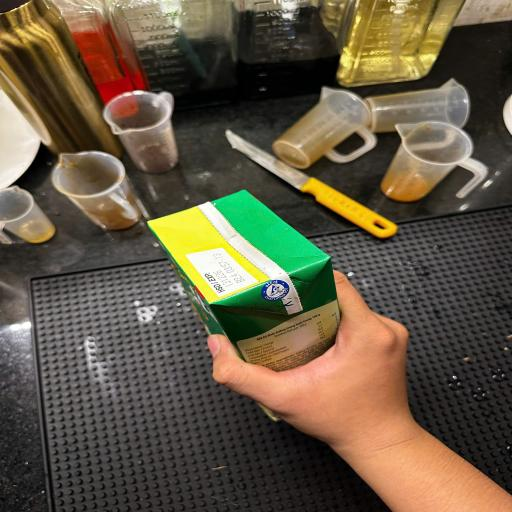sua_dac: (130, 194, 422, 446)
